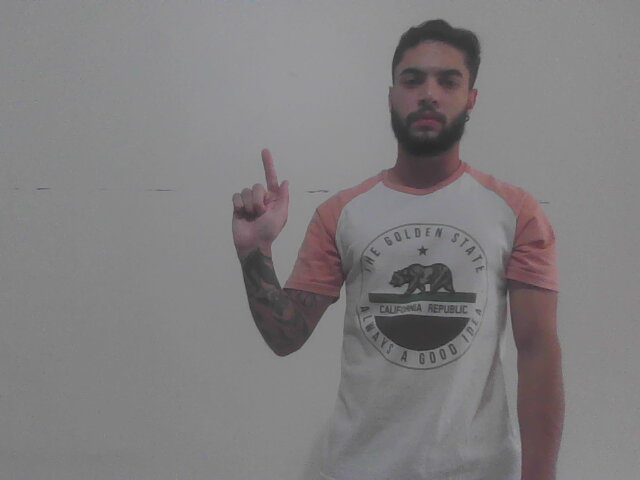g: (219, 146, 293, 257)
